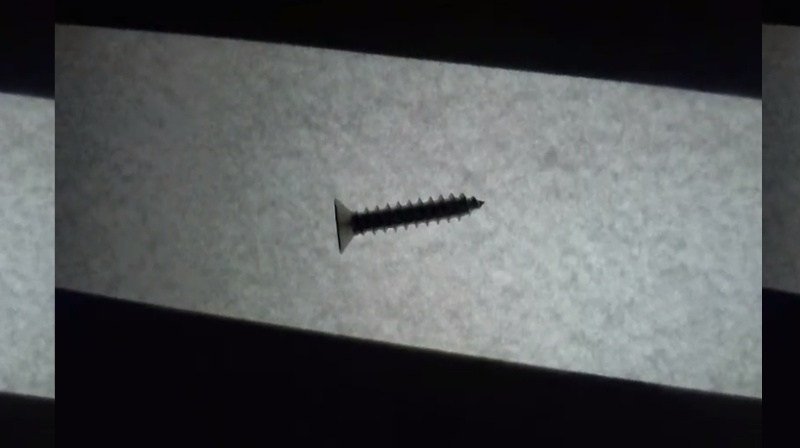S001: (331, 186, 488, 258)
